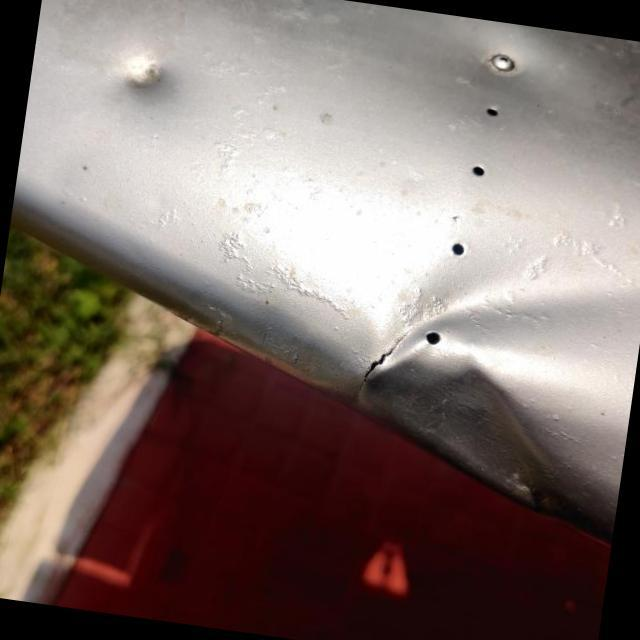Dent: (330, 219, 640, 546), (97, 30, 202, 130)
Rupture: (334, 304, 432, 428)
